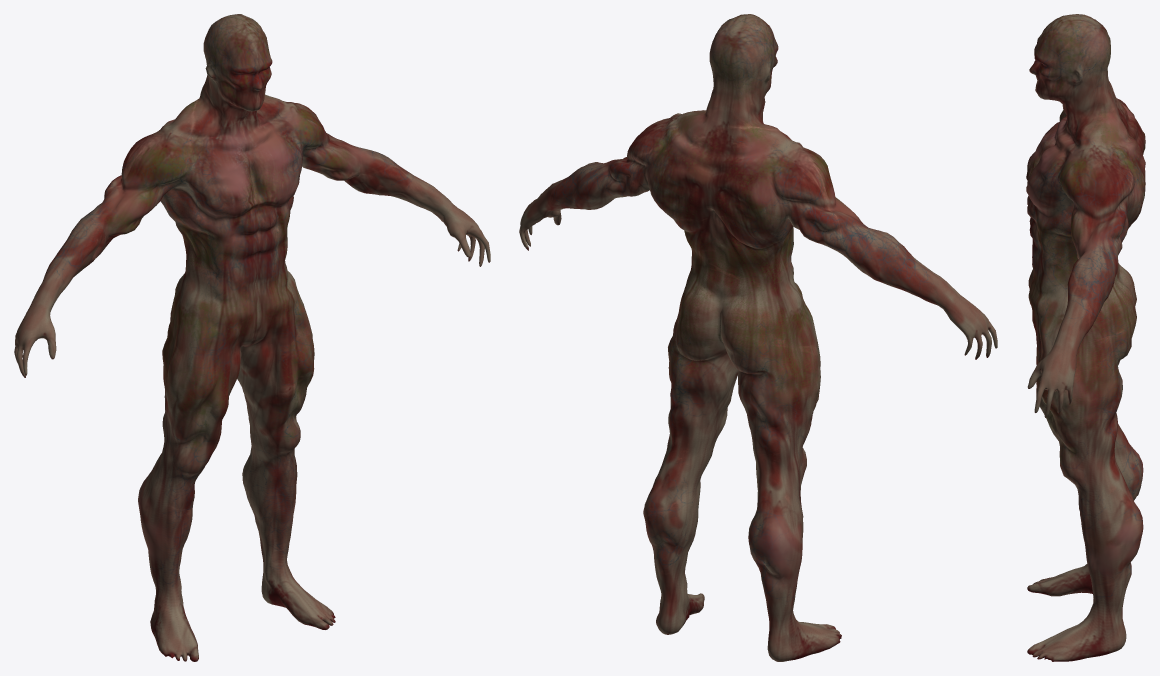
Rendered from zombie.glb.
The picture shows the model from 3 angles, left to right: view 1: azimuth 30°, elevation 25°; view 2: azimuth 150°, elevation 25°; view 3: azimuth 270°, elevation 25°; orthographic projection.
Visible parts, largest first — view 1: male_zbrush; view 2: male_zbrush; view 3: male_zbrush.
Boxes of the visible parts, x1,y1,x2,y2 form: male_zbrush: [14, 14, 490, 661]; male_zbrush: [519, 14, 997, 661]; male_zbrush: [1026, 14, 1145, 661].
Bounding box in the file's own units: 2.26 × 2.84 × 0.5062.
Materials: 1 (1 with a texture image).
